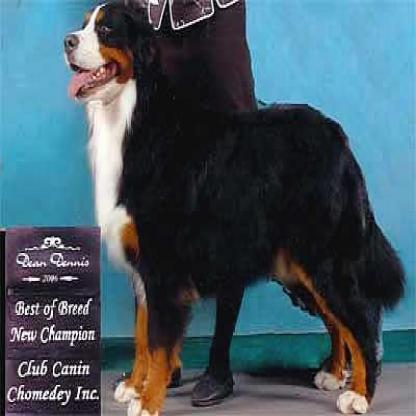Bernese_mountain_dog: (59, 0, 403, 411)
